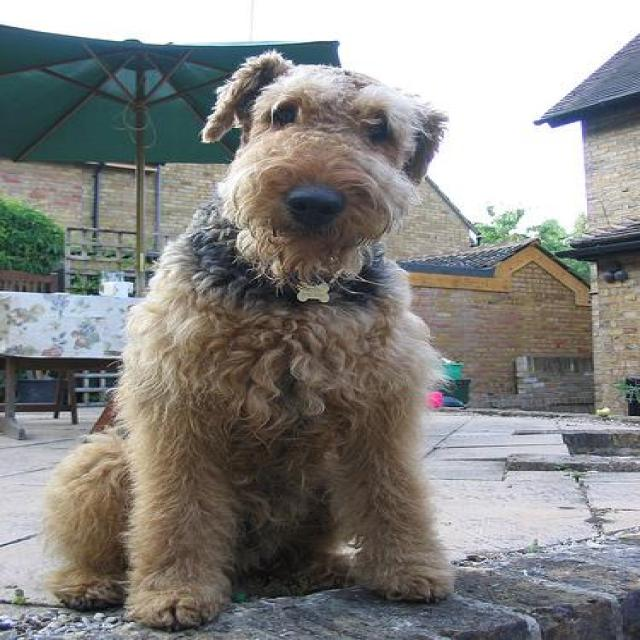airedale: (39, 52, 461, 628)
